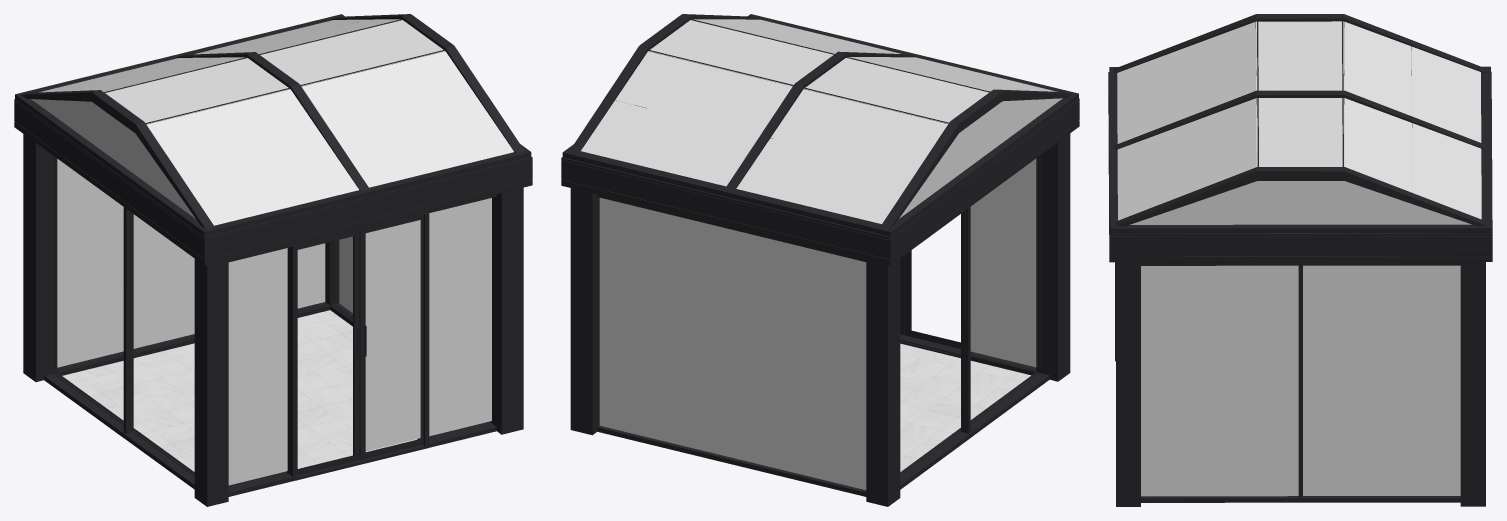
Rendered from veranda.glb.
The picture shows the model from 3 angles, left to right: view 1: azimuth 30°, elevation 25°; view 2: azimuth 150°, elevation 25°; view 3: azimuth 270°, elevation 25°; orthographic projection.
Parts seen in each view (by area): view 1: triangleroof, planefixedglassfront, pillar, backglass, Plane, holdroof, rightdoorglass, bottomjoint, topjoint, right, left, rightsideglass; view 2: triangleroof, backglass, pillar, holdroof, planefixedglassfront, Plane, bottomjoint, topjoint, left; view 3: triangleroof, rightsideglass, pillar, holdroof, bottomjoint, topjoint.
Boxes of the visible parts, x1,y1,x2,y2 form: triangleroof: (15,14,531,236); planefixedglassfront: (228,198,491,485); pillar: (23,134,523,506); backglass: (57,159,325,367); Plane: (62,310,417,471); holdroof: (14,99,532,265); rightdoorglass: (365,220,420,451); bottomjoint: (44,207,496,496); topjoint: (228,194,496,481); right: (359,214,423,459); left: (297,230,359,475); rightsideglass: (339,236,352,312); triangleroof: (562,14,1078,236); backglass: (599,197,866,489); pillar: (570,133,1070,506); holdroof: (561,98,1079,265); planefixedglassfront: (970,158,1036,367); Plane: (900,343,1030,471); bottomjoint: (597,207,1049,496); topjoint: (597,194,971,355); left: (905,250,960,348); triangleroof: (1109,14,1491,233); rightsideglass: (1141,265,1460,496); pillar: (1115,262,1485,506); holdroof: (1108,71,1492,262); bottomjoint: (1141,265,1460,502); topjoint: (1141,262,1460,265).
Bounding box in the file's own units: 3.29 × 3.17 × 3.29.
Materials: 4 (1 with a texture image).
